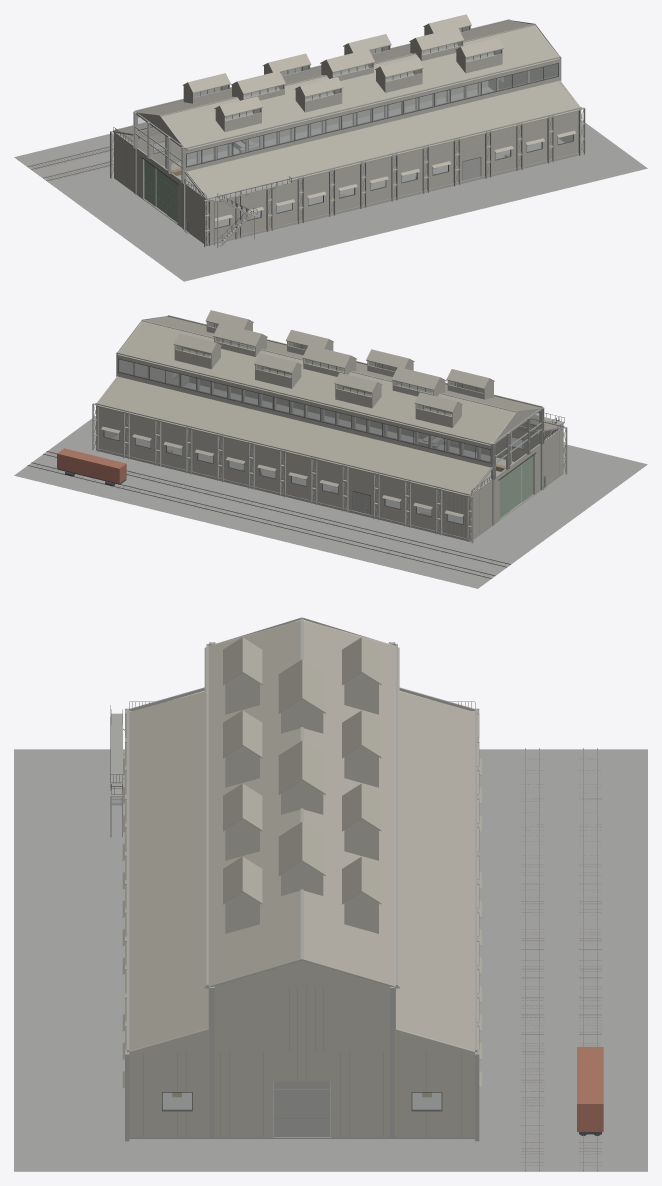
The model's file is clay-craneway-hall-clay-v003.glb.
The picture shows the model from 3 angles, top to bottom: view 1: azimuth 30°, elevation 25°; view 2: azimuth 150°, elevation 25°; view 3: azimuth 270°, elevation 25°; orthographic projection. The views are drawn at different scales.
Visible parts, largest first — view 1: CLAY_ROOF, CLAY_WALL, CLAY_FOUNDATION, CLAY_PALE, CLAY_GLASS, CLAY_TRIM, CLAY_GREEN, CLAY_STONE, CLAY_RAIL, CLAY_HARDWARE; view 2: CLAY_ROOF, CLAY_FOUNDATION, CLAY_WALL, CLAY_PALE, CLAY_GLASS, CLAY_RAIL, CLAY_TRIM, CLAY_CAR, CLAY_GREEN, CLAY_STONE, CLAY_JOINT; view 3: CLAY_FOUNDATION, CLAY_ROOF, CLAY_WALL, CLAY_PALE, CLAY_RAIL, CLAY_CAR, CLAY_JOINT, CLAY_GLASS.
Boxes of the visible parts, bbox=[...] form: CLAY_ROOF: bbox=[116, 14, 581, 221]; CLAY_WALL: bbox=[114, 20, 581, 245]; CLAY_FOUNDATION: bbox=[14, 77, 647, 281]; CLAY_PALE: bbox=[110, 19, 585, 247]; CLAY_GLASS: bbox=[138, 26, 572, 227]; CLAY_TRIM: bbox=[138, 28, 573, 232]; CLAY_GREEN: bbox=[144, 160, 188, 230]; CLAY_STONE: bbox=[184, 153, 580, 245]; CLAY_RAIL: bbox=[27, 76, 555, 180]; CLAY_HARDWARE: bbox=[113, 127, 291, 246]; CLAY_ROOF: bbox=[96, 310, 560, 517]; CLAY_FOUNDATION: bbox=[14, 373, 647, 588]; CLAY_WALL: bbox=[96, 316, 563, 540]; CLAY_PALE: bbox=[92, 315, 567, 543]; CLAY_GLASS: bbox=[104, 322, 539, 523]; CLAY_RAIL: bbox=[27, 371, 538, 578]; CLAY_TRIM: bbox=[103, 323, 545, 524]; CLAY_CAR: bbox=[57, 448, 126, 483]; CLAY_GREEN: bbox=[500, 456, 544, 518]; CLAY_STONE: bbox=[96, 449, 547, 541]; CLAY_JOINT: bbox=[131, 359, 559, 537]; CLAY_FOUNDATION: bbox=[14, 749, 647, 1171]; CLAY_ROOF: bbox=[122, 621, 481, 1088]; CLAY_WALL: bbox=[129, 620, 474, 1137]; CLAY_PALE: bbox=[110, 617, 479, 1141]; CLAY_RAIL: bbox=[521, 748, 601, 1171]; CLAY_CAR: bbox=[577, 1047, 603, 1131]; CLAY_JOINT: bbox=[143, 987, 461, 1137]; CLAY_GLASS: bbox=[162, 1092, 441, 1109].
Bounding box in the file's own units: 104 × 23.98 × 66.
